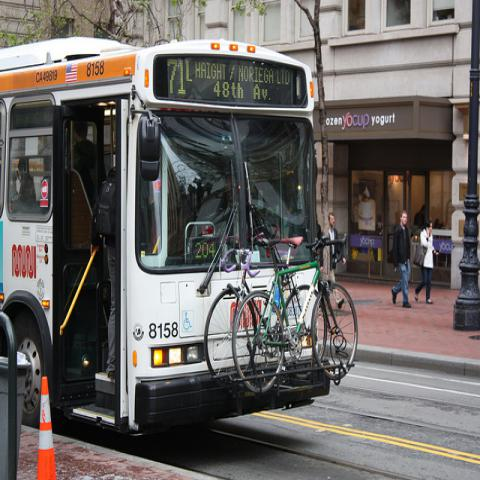bus: (0, 33, 331, 434)
